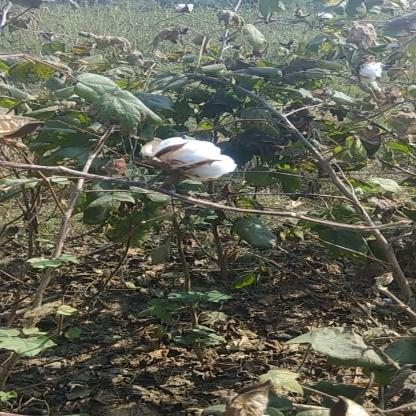cotton_ready: (112, 129, 246, 187)
